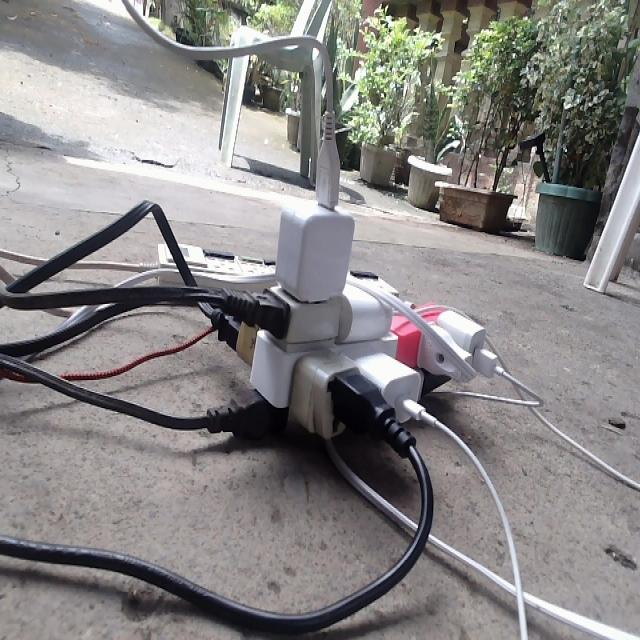-: (201, 105, 503, 460)
